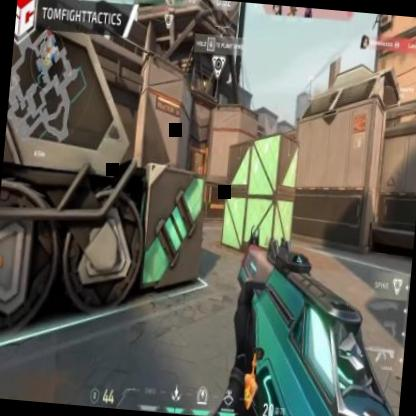enemy: (196, 164, 200, 178)
enemy_head: (198, 165, 199, 168)
